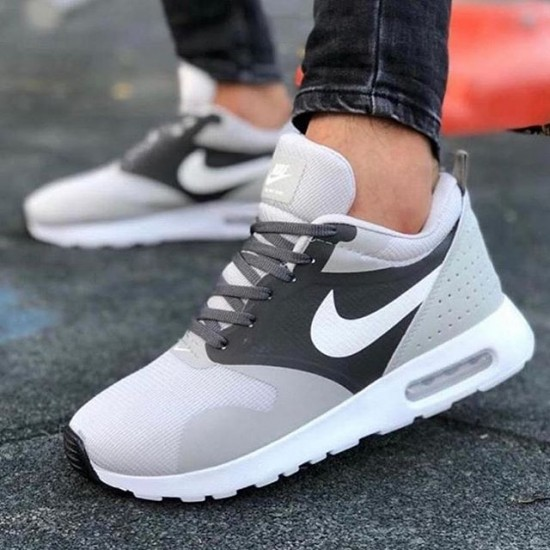nike: (309, 286, 429, 360)
